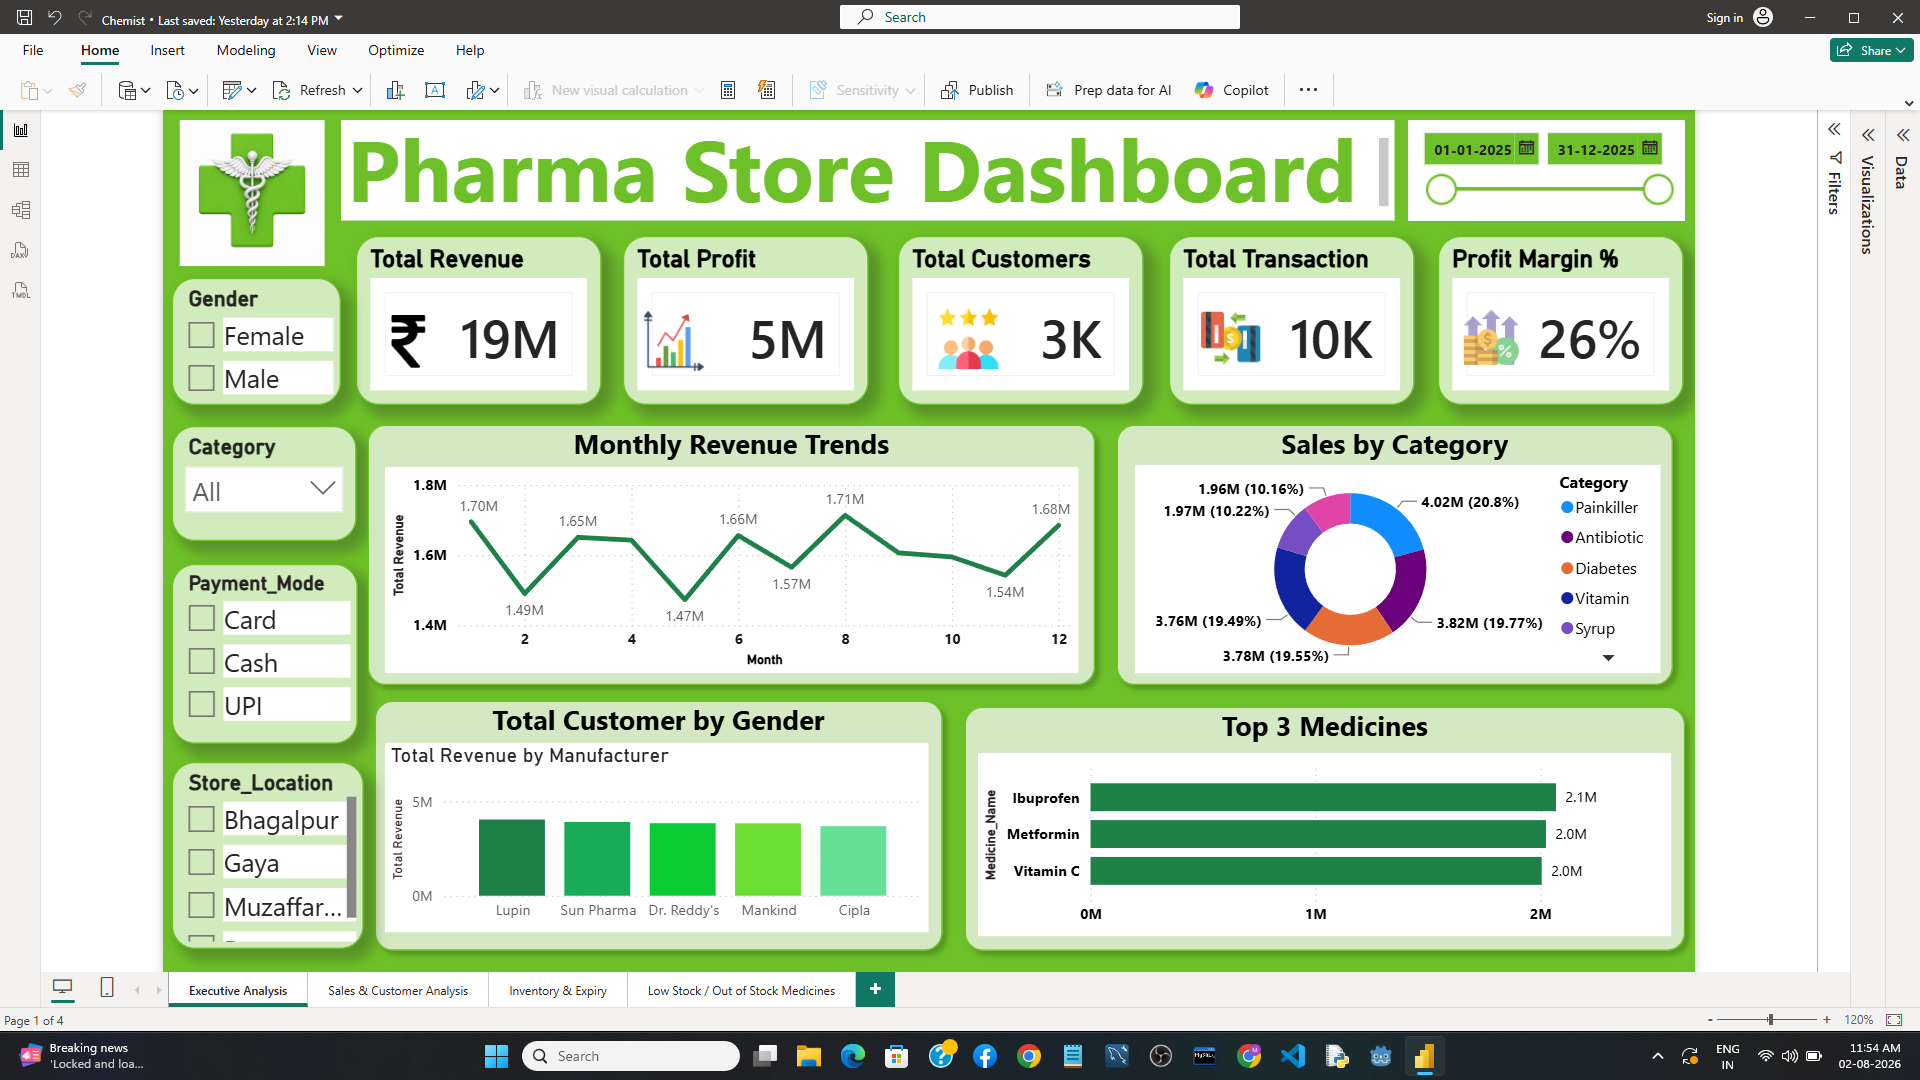

The dashboard page shown, as its layout file describes it:
{"tool":"powerbi","page":{"name":"Executive Analysis","canvas":[1280,720],"ordinal":0},"visuals":[{"type":"shape","box":[168.3,484.4,492.2,226.6],"z":0},{"type":"cardVisual","title":"Total Revenue","fields":{"Data":["Chemist_Shop_Dataset_2025_10000_Rows.Total Revenue"]},"box":[161.5,105,205.2,141],"z":1000},{"type":"cardVisual","title":"Total Customers","fields":{"Data":["Chemist_Shop_Dataset_2025_10000_Rows.Total Customers"]},"box":[613.7,105,205.2,141],"z":2000},{"type":"cardVisual","title":"Total Transaction","fields":{"Data":["Chemist_Shop_Dataset_2025_10000_Rows.Total Transactions"]},"box":[840.4,105,205.2,141],"z":3000},{"type":"cardVisual","title":"Profit Margin %","fields":{"Data":["Chemist_Shop_Dataset_2025_10000_Rows.Profit Margin %"]},"box":[1065,105,205.2,141],"z":4000},{"type":"cardVisual","title":"Total Profit","fields":{"Data":["Chemist_Shop_Dataset_2025_10000_Rows.Total Profit"]},"box":[384.2,105,205.2,141],"z":5000},{"type":"image","box":[0,8.8,148.8,121.6],"z":6000},{"type":"textbox","box":[148.8,8.8,880.2,83.6],"z":7000},{"type":"slicer","fields":{"Values":["Chemist_Shop_Dataset_2025_10000_Rows.Date"]},"box":[1039.8,8.8,230.5,83.6],"z":8000},{"type":"image","box":[178,171.2,53.5,43.8],"z":9000},{"type":"image","box":[401.7,167.3,49.6,51.6],"z":10000},{"type":"image","box":[640,165.3,66.1,50.6],"z":11000},{"type":"image","box":[855,164.4,72.9,51.6],"z":12000},{"type":"image","box":[1079.6,165.3,59.3,48.6],"z":13000},{"type":"slicer","fields":{"Values":["Chemist_Shop_Dataset_2025_10000_Rows.Store_Location"]},"box":[7.8,544.7,160.5,155.6],"z":14000},{"type":"slicer","fields":{"Values":["Chemist_Shop_Dataset_2025_10000_Rows.Category"]},"box":[7.8,263.6,153.7,96.3],"z":15000},{"type":"slicer","fields":{"Values":["Chemist_Shop_Dataset_2025_10000_Rows.Payment_Mode"]},"box":[7.8,379.3,154.7,149.8],"z":16000},{"type":"slicer","fields":{"Values":["Chemist_Shop_Dataset_2025_10000_Rows.Gender"]},"box":[7.8,140.1,141,106],"z":17000},{"type":"shape","box":[162.4,253.9,625.4,235.4],"z":18000},{"type":"lineChart","fields":{"Y":["Chemist_Shop_Dataset_2025_10000_Rows.Total Revenue"],"Category":["Chemist_Shop_Dataset_2025_10000_Rows.Month"]},"box":[185.8,298.6,578.7,172.2],"z":19000},{"type":"shape","box":[787.8,253.9,482.4,235.4],"z":20000},{"type":"donutChart","fields":{"Y":["Chemist_Shop_Dataset_2025_10000_Rows.Total Revenue"],"Category":["Chemist_Shop_Dataset_2025_10000_Rows.Category"]},"box":[812.2,296.7,438.7,174.1],"z":21000},{"type":"shape","box":[660.4,489.2,619.6,221.8],"z":22000},{"type":"clusteredBarChart","fields":{"Y":["Chemist_Shop_Dataset_2025_10000_Rows.Total Revenue"],"Category":["Chemist_Shop_Dataset_2025_10000_Rows.Medicine_Name"]},"box":[680.9,536.9,578.7,152.7],"z":23000},{"type":"columnChart","fields":{"Y":["Chemist_Shop_Dataset_2025_10000_Rows.Total Revenue"],"Category":["Chemist_Shop_Dataset_2025_10000_Rows.Manufacturer"]},"box":[185.8,529.1,454.2,157.6],"z":24000}]}

Visuals, with their boxes on the page's 1280x720 design canvas (x1, y1, x2, y2). These are canvas units, not pixel positions in the 1920x1080 screenshot, which may show the page scaled, cropped or inside an application window:
shape: <box>168,484,660,711</box>
"Total Revenue" cardVisual: <box>162,105,367,246</box>
"Total Customers" cardVisual: <box>614,105,819,246</box>
"Total Transaction" cardVisual: <box>840,105,1046,246</box>
"Profit Margin %" cardVisual: <box>1065,105,1270,246</box>
"Total Profit" cardVisual: <box>384,105,589,246</box>
image: <box>0,9,149,130</box>
textbox: <box>149,9,1029,92</box>
slicer - Chemist_Shop_Dataset_2025_10000_Rows.Date: <box>1040,9,1270,92</box>
image: <box>178,171,232,215</box>
image: <box>402,167,451,219</box>
image: <box>640,165,706,216</box>
image: <box>855,164,928,216</box>
image: <box>1080,165,1139,214</box>
slicer - Chemist_Shop_Dataset_2025_10000_Rows.Store_Location: <box>8,545,168,700</box>
slicer - Chemist_Shop_Dataset_2025_10000_Rows.Category: <box>8,264,162,360</box>
slicer - Chemist_Shop_Dataset_2025_10000_Rows.Payment_Mode: <box>8,379,162,529</box>
slicer - Chemist_Shop_Dataset_2025_10000_Rows.Gender: <box>8,140,149,246</box>
shape: <box>162,254,788,489</box>
lineChart - Chemist_Shop_Dataset_2025_10000_Rows.Total Revenue x Chemist_Shop_Dataset_2025_10000_Rows.Month: <box>186,299,764,471</box>
shape: <box>788,254,1270,489</box>
donutChart - Chemist_Shop_Dataset_2025_10000_Rows.Total Revenue x Chemist_Shop_Dataset_2025_10000_Rows.Category: <box>812,297,1251,471</box>
shape: <box>660,489,1280,711</box>
clusteredBarChart - Chemist_Shop_Dataset_2025_10000_Rows.Total Revenue x Chemist_Shop_Dataset_2025_10000_Rows.Medicine_Name: <box>681,537,1260,690</box>
columnChart - Chemist_Shop_Dataset_2025_10000_Rows.Total Revenue x Chemist_Shop_Dataset_2025_10000_Rows.Manufacturer: <box>186,529,640,687</box>
